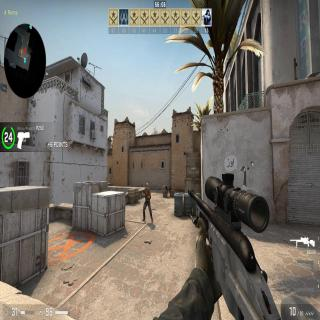T-Body: (142, 183, 153, 222)
T-Head: (146, 183, 148, 189)
